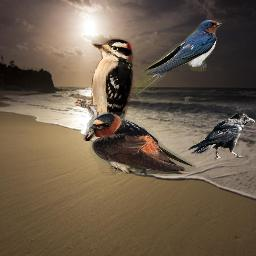Crow: (187, 112, 255, 161)
Swallow: (132, 20, 223, 96), (89, 112, 196, 176)
Woodpecker: (73, 36, 135, 141)
